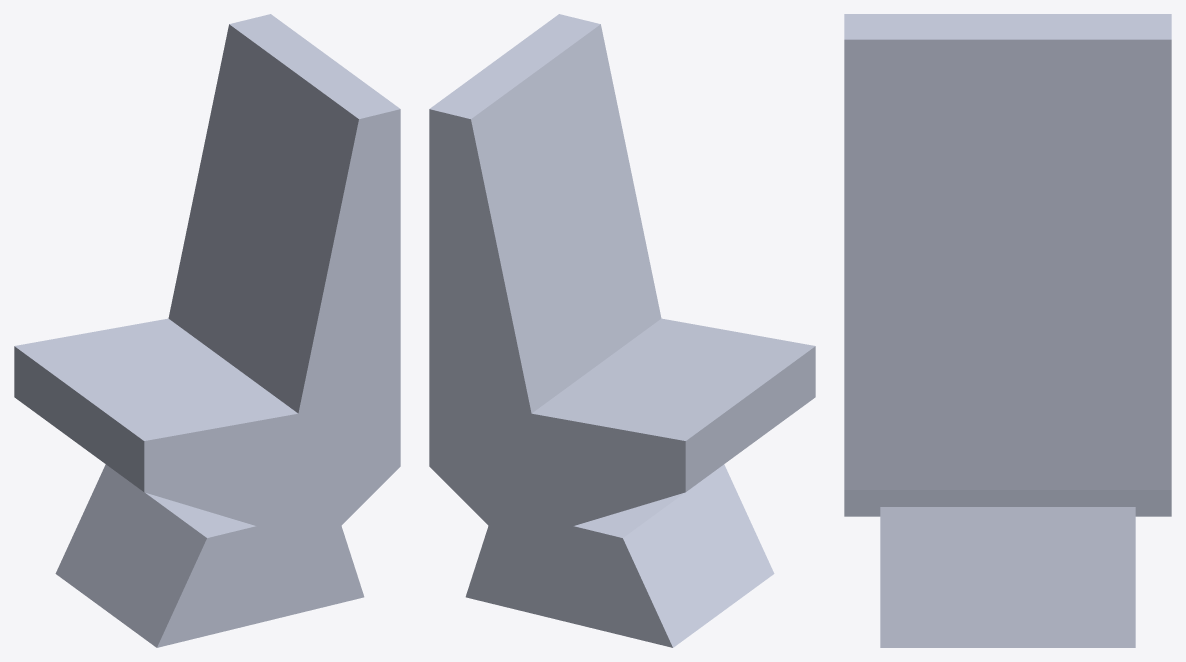
The picture shows the model from 3 angles, left to right: view 1: azimuth 30°, elevation 25°; view 2: azimuth 150°, elevation 25°; view 3: azimuth 270°, elevation 25°; orthographic projection. The views are drawn at different scales.
Visible parts, largest first — view 1: object_055; view 2: object_055; view 3: object_055.
Part boxes in pixels (x1,y1,x2,y2): object_055: (14,14,400,647); object_055: (429,14,815,647); object_055: (844,14,1171,647).
Size of the model in its own units: 2.91 by 5.35 by 2.55.
